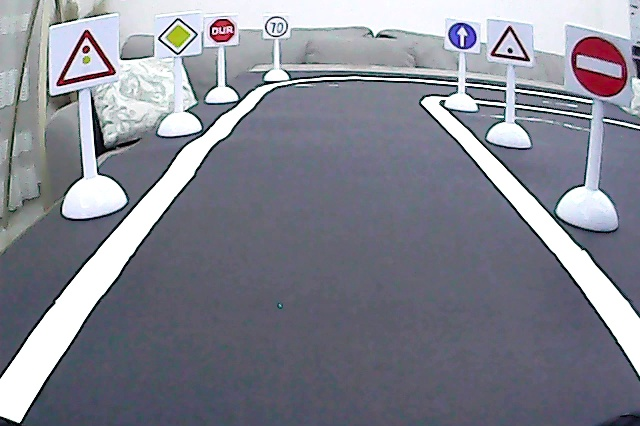do not enter: (568, 32, 632, 101)
green light: (487, 21, 533, 65)
red light: (53, 24, 120, 88)
speed limit 70: (263, 16, 289, 39)
stop sign: (208, 16, 237, 46)
